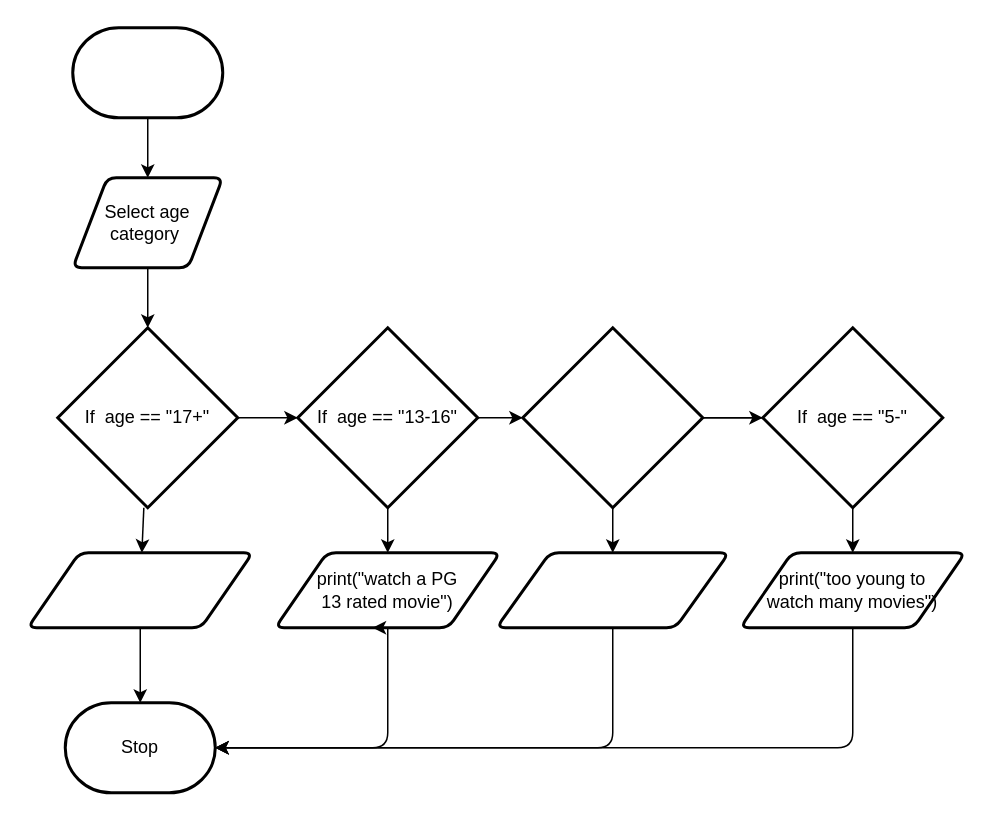
The diagram is 992 pixels wide and 819 high, and some of its shapes have lost their labels. The centre of each missing label's shape, as x and y in pixels:
If age == "5-12": pixel 612 417
print("watch a PG or G rated movie"): pixel 612 589
print("watch a R rated movie"): pixel 140 589
Start: pixel 147 72
